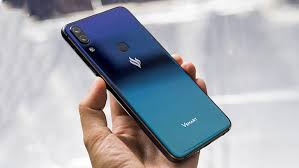vsmart: (58, 6, 237, 160)
